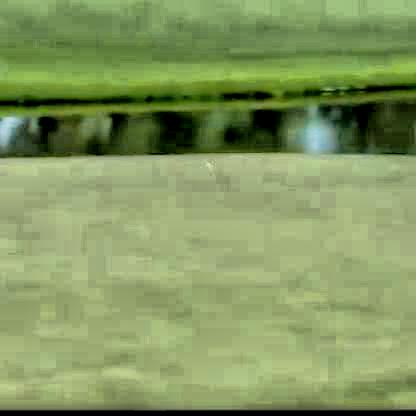golfball: (203, 157, 210, 167)
